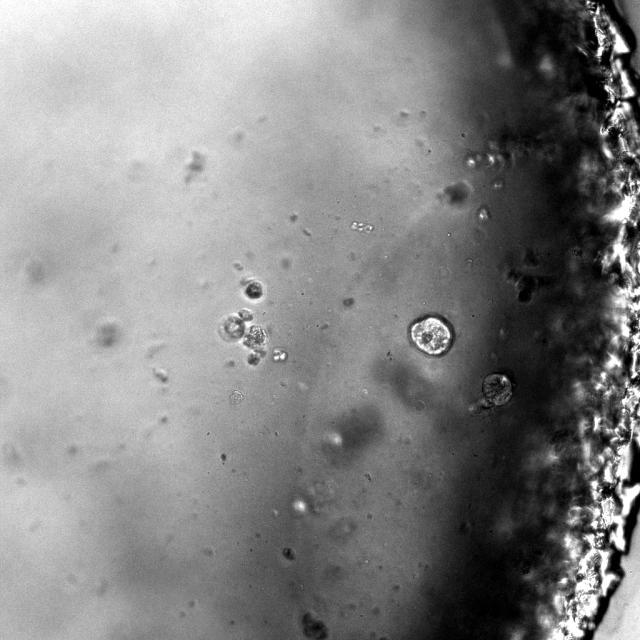organoid: (218, 309, 266, 366), (408, 315, 454, 356), (505, 269, 552, 302), (482, 373, 512, 406), (300, 611, 328, 639), (245, 281, 263, 299), (523, 249, 539, 267), (282, 547, 294, 560)
